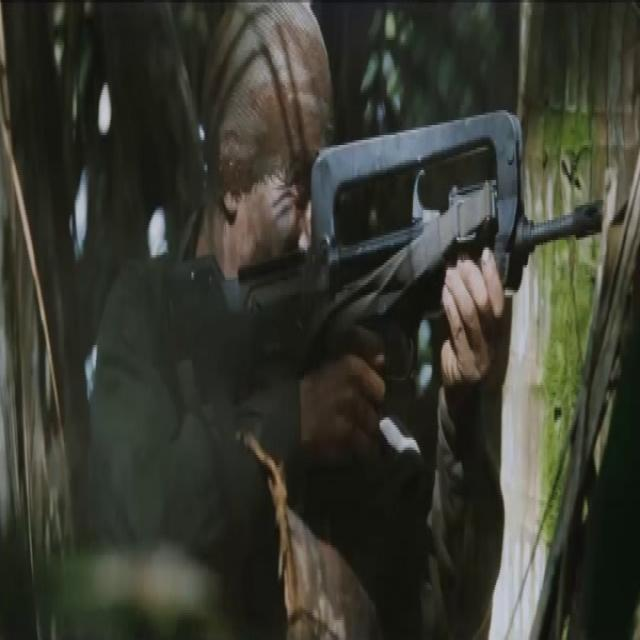rifle: (152, 87, 608, 447)
